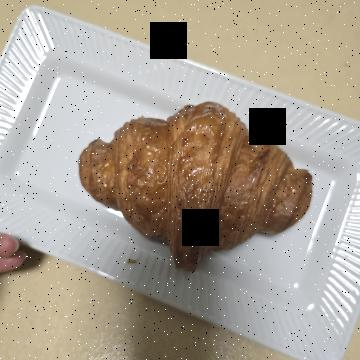croissant: (89, 37, 278, 288)
